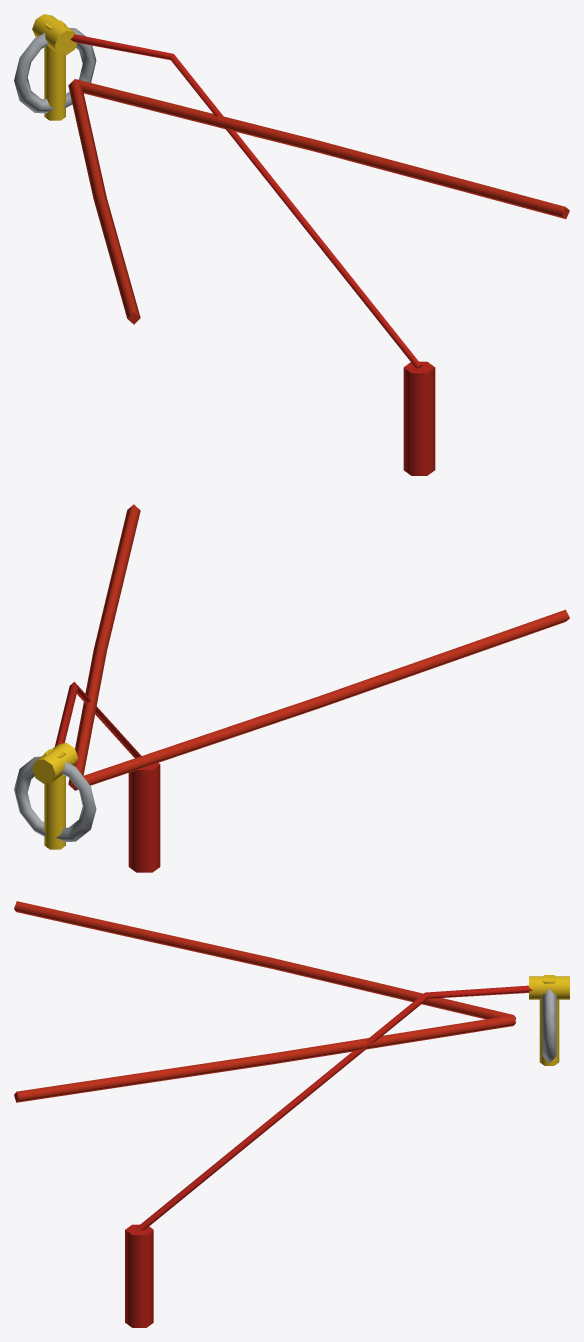
Rendered from tow_release.glb.
The picture shows the model from 3 angles, top to bottom: view 1: azimuth 30°, elevation 25°; view 2: azimuth 150°, elevation 25°; view 3: azimuth 270°, elevation 25°; orthographic projection. The views are drawn at different scales.
Visible parts, largest first — view 1: tow_release_LOD0; view 2: tow_release_LOD0; view 3: tow_release_LOD0.
Boxes of the visible parts, x1=… form: tow_release_LOD0: x1=14, y1=14, x2=569, y2=475; tow_release_LOD0: x1=14, y1=504, x2=569, y2=872; tow_release_LOD0: x1=14, y1=901, x2=569, y2=1327.
Size of what is drawn, in the model's own units: 0.451 by 0.3136 by 0.5424.
